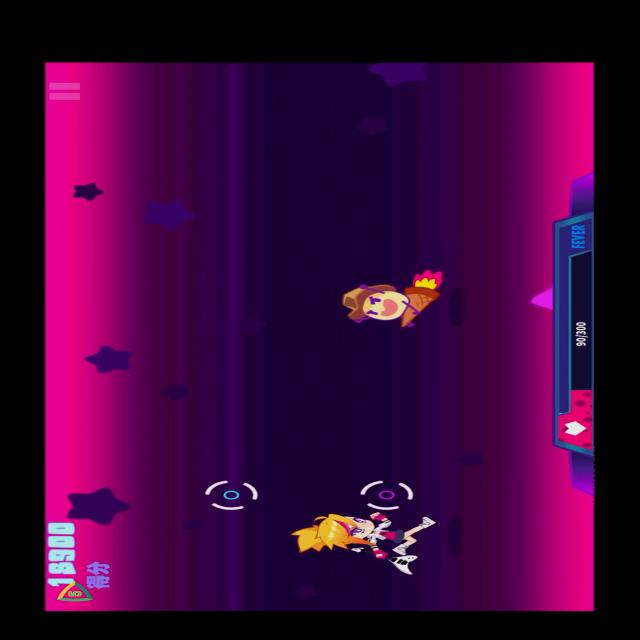qiu: (338, 265, 457, 331)
